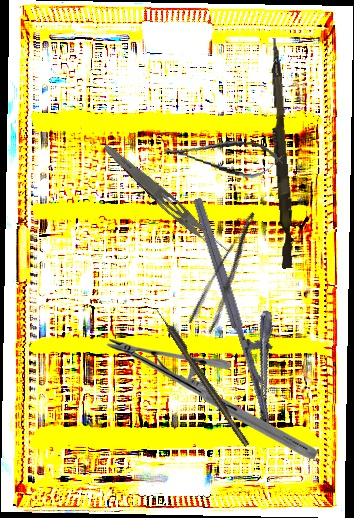Dressing Forceps: (97, 141, 232, 261), (185, 210, 276, 336)
Hook Surgical: (153, 305, 251, 448)
Micro Scissor: (162, 130, 285, 183)
Needle Holder: (191, 187, 303, 427), (106, 338, 318, 459)
Pusher: (262, 37, 299, 269)
